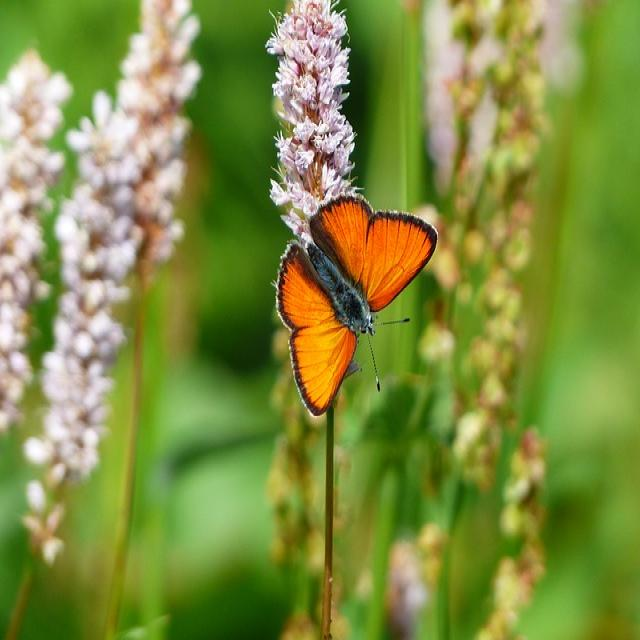butterfly: (278, 195, 438, 414)
